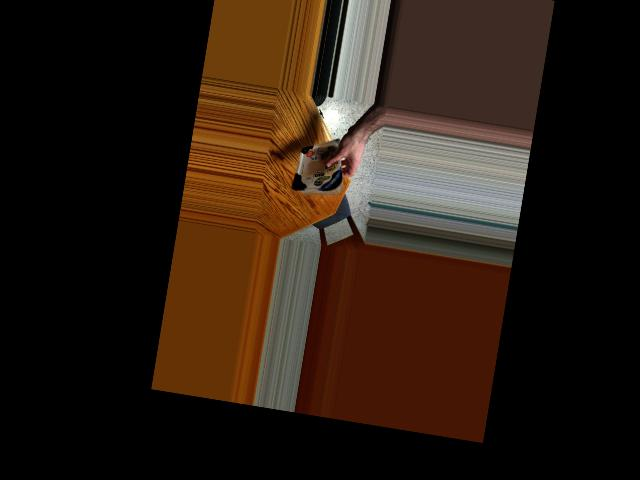cheese: (293, 144, 349, 202)
